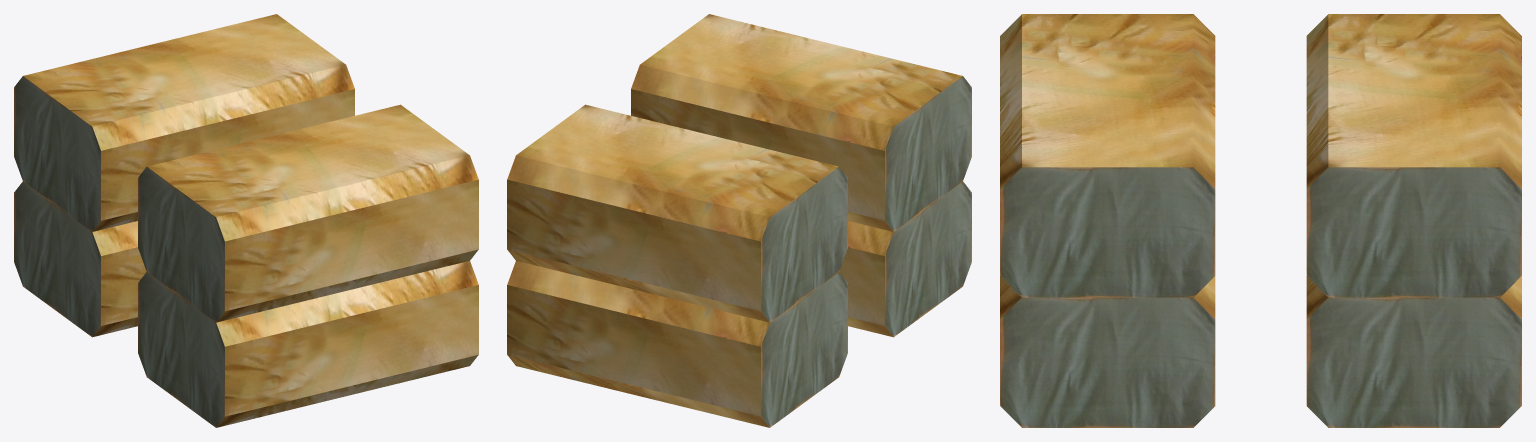
The model's file is jiushengyi.FBX.
3 views of the same model, side by side, from view 1: azimuth 30°, elevation 25°; view 2: azimuth 150°, elevation 25°; view 3: azimuth 270°, elevation 25° (orthographic). The views are drawn at different scales.
Visible parts, largest first — view 1: 对象66; view 2: 对象66; view 3: 对象66.
Part boxes in pixels (left/top/right/bottom): 对象66: left=14, top=14, right=478, bottom=427; 对象66: left=507, top=14, right=971, bottom=427; 对象66: left=1000, top=14, right=1521, bottom=427.
Bounding box in the file's own units: 0.9632 × 1.39 × 0.7638.
